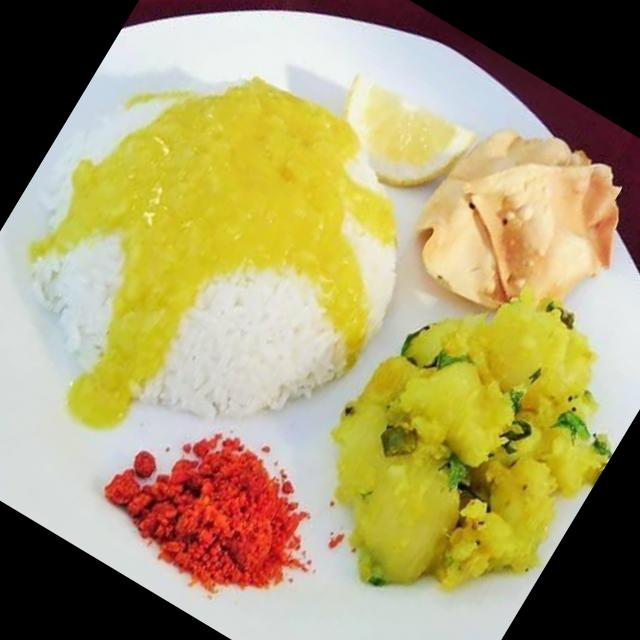dal: (25, 80, 401, 436)
rice: (36, 80, 401, 414)
